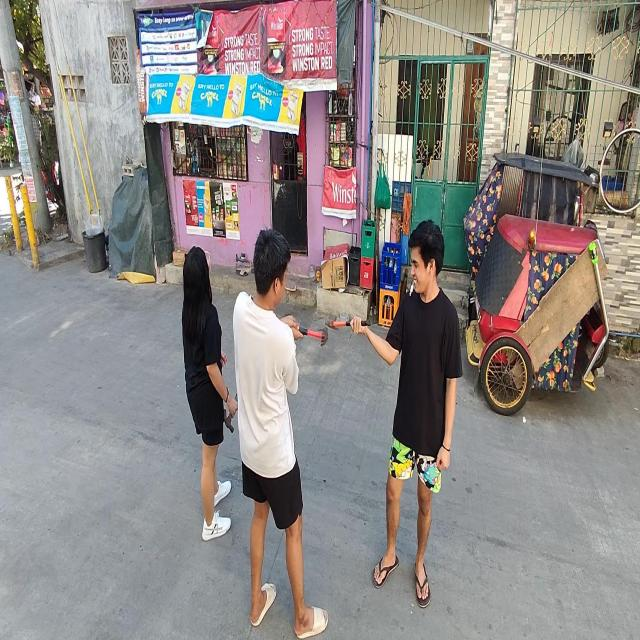hammer: (298, 327, 328, 348), (324, 318, 370, 331), (224, 392, 238, 433)
